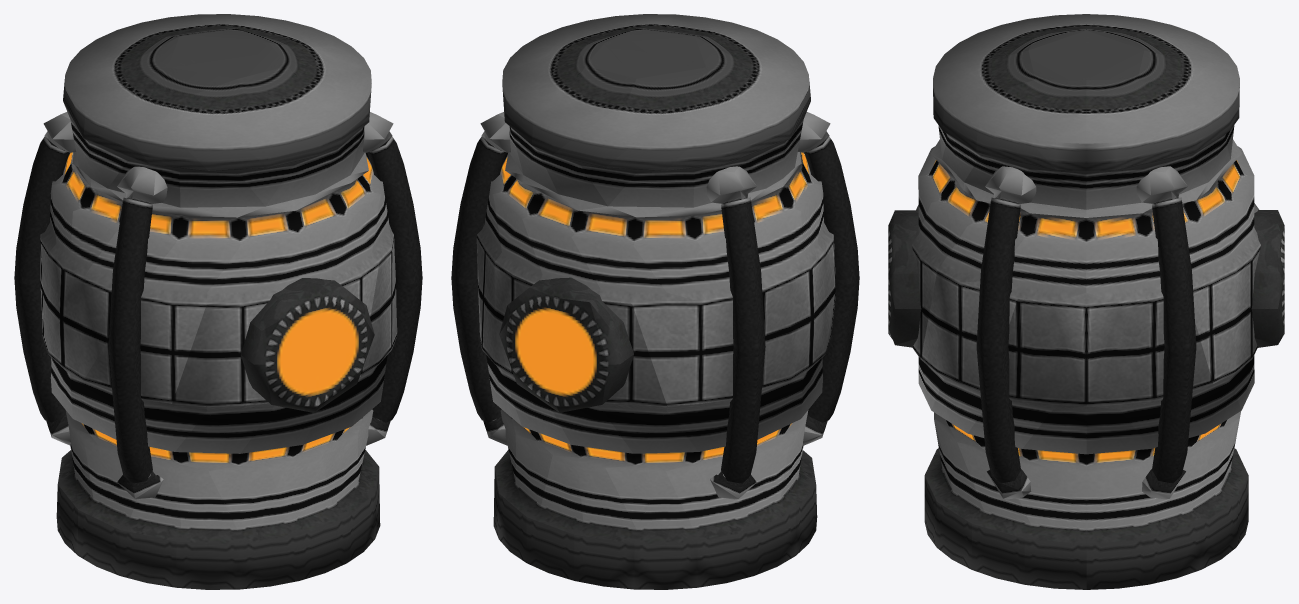
Rendered from FUT0110002.fbx.
3 views of the same model, side by side, from view 1: azimuth 30°, elevation 25°; view 2: azimuth 150°, elevation 25°; view 3: azimuth 270°, elevation 25° (orthographic).
Visible parts, largest first — view 1: smFUT0110002; view 2: smFUT0110002; view 3: smFUT0110002.
Part boxes in pixels (x1=…): smFUT0110002: x1=14, y1=14, x2=422, y2=589; smFUT0110002: x1=451, y1=14, x2=859, y2=589; smFUT0110002: x1=888, y1=14, x2=1284, y2=589.
Size of the model in its own units: 84.76 by 120 by 92.54.
1 material, 1 textured.
